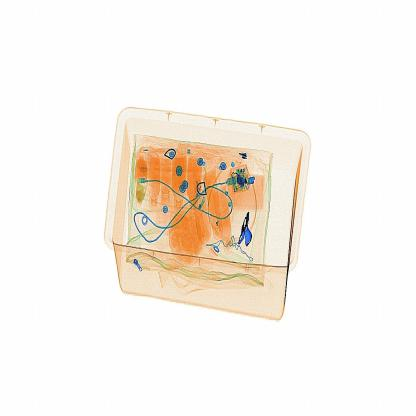wrench: (233, 204, 264, 256)
